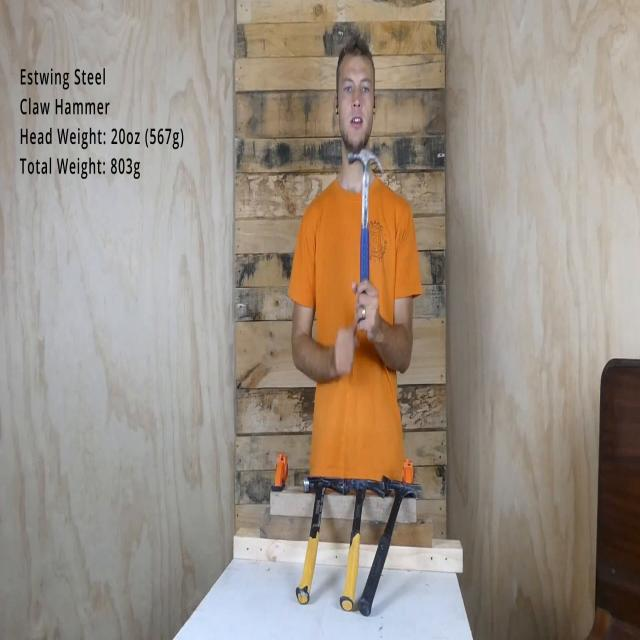hammer: (355, 475, 427, 619), (292, 472, 348, 608), (333, 471, 388, 608), (347, 148, 386, 306)
